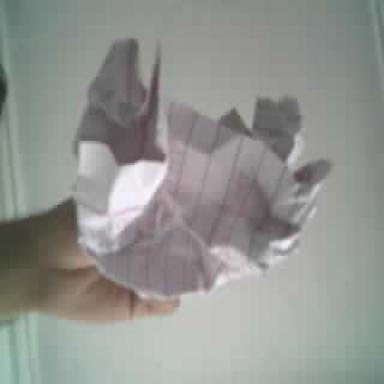paper: (73, 38, 330, 298)
